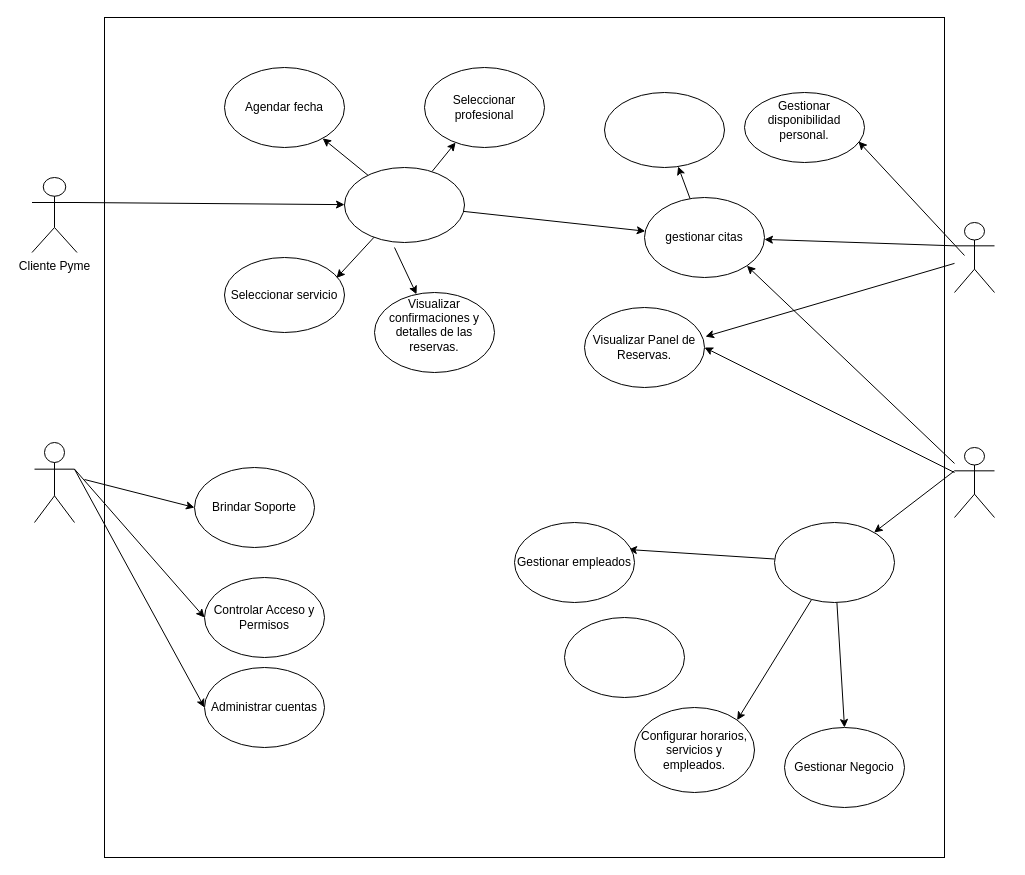
This 1025x875 diagram has some shape labels left out. The centre of each missing label's shape, as x and y in pixels:
"Administrador" goes at (54,482).
"Cancelar cita" goes at (664,130).
"Crear negocio" goes at (834,562).
"Dueño pyme" goes at (974,482).
"Empleado" goes at (974,257).
"Reservar cita" goes at (404,204).
"Visualizar Reportes." goes at (624,657).
